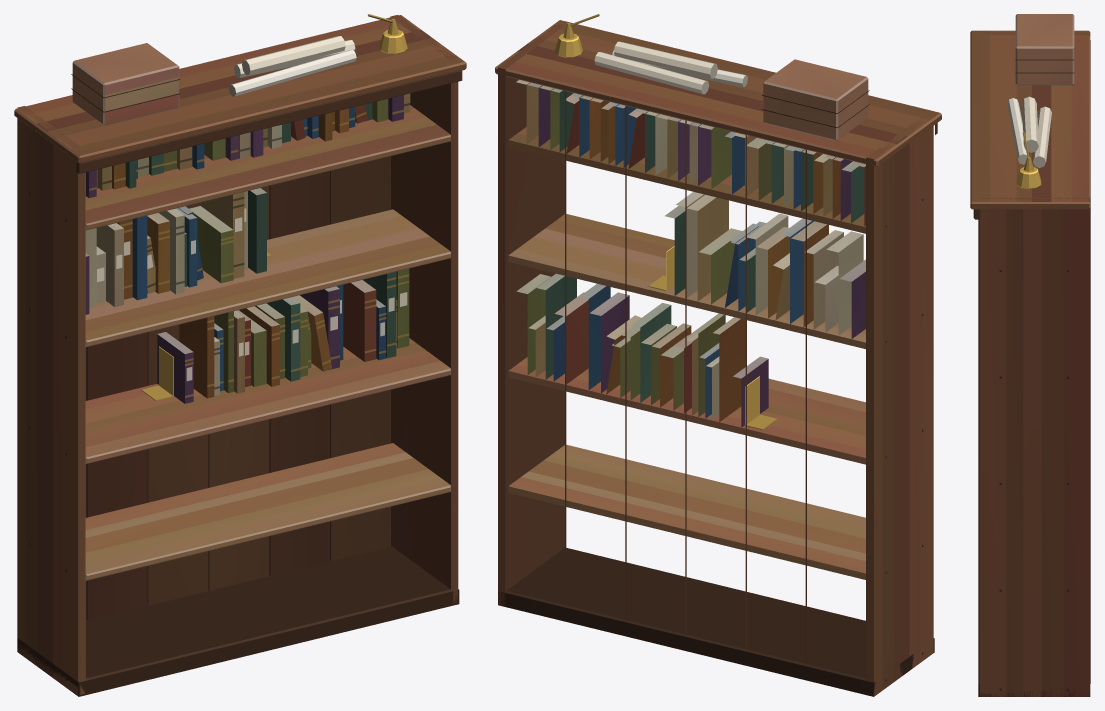
The model's file is shelf.glb.
3 views of the same model, side by side, from view 1: azimuth 30°, elevation 25°; view 2: azimuth 150°, elevation 25°; view 3: azimuth 270°, elevation 25° (orthographic). The views are drawn at different scales.
Parts seen in each view (by area): view 1: shelf_wood, shelf_paper, shelf_brass; view 2: shelf_wood, shelf_paper, shelf_brass; view 3: shelf_wood, shelf_paper, shelf_brass.
Boxes of the visible parts, x1,y1,x2,y2 form: shelf_wood: [14, 15, 466, 696]; shelf_paper: [97, 36, 407, 381]; shelf_brass: [141, 14, 407, 400]; shelf_wood: [495, 20, 941, 696]; shelf_paper: [594, 41, 747, 94]; shelf_brass: [555, 14, 777, 429]; shelf_wood: [970, 14, 1090, 696]; shelf_paper: [1007, 96, 1051, 167]; shelf_brass: [1016, 132, 1041, 188].
Bounding box in the file's own units: 1.53 × 2.21 × 0.451.
